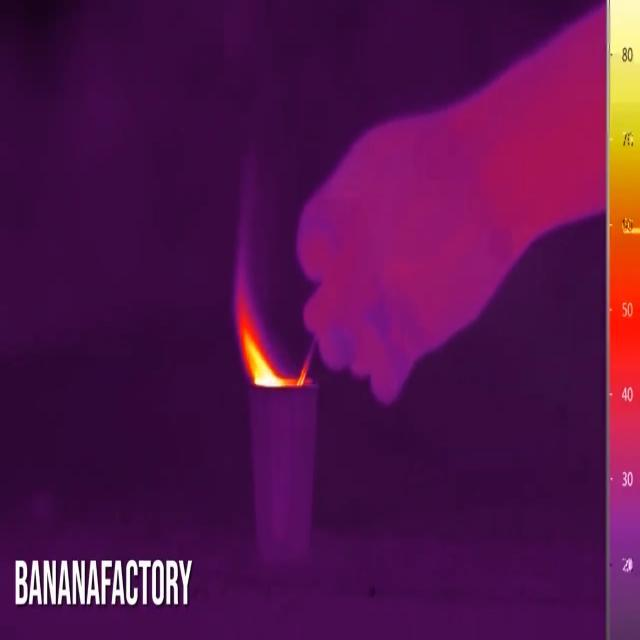fire: (231, 279, 302, 393)
